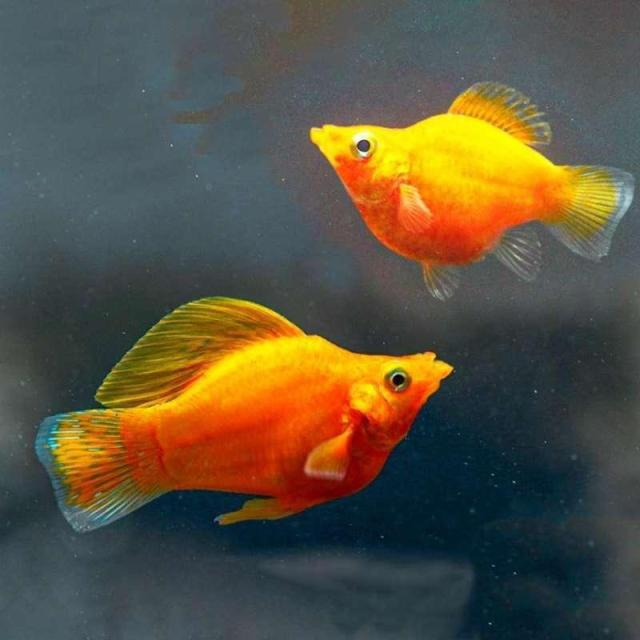PlatyFish: (22, 282, 453, 570), (298, 73, 640, 312)
